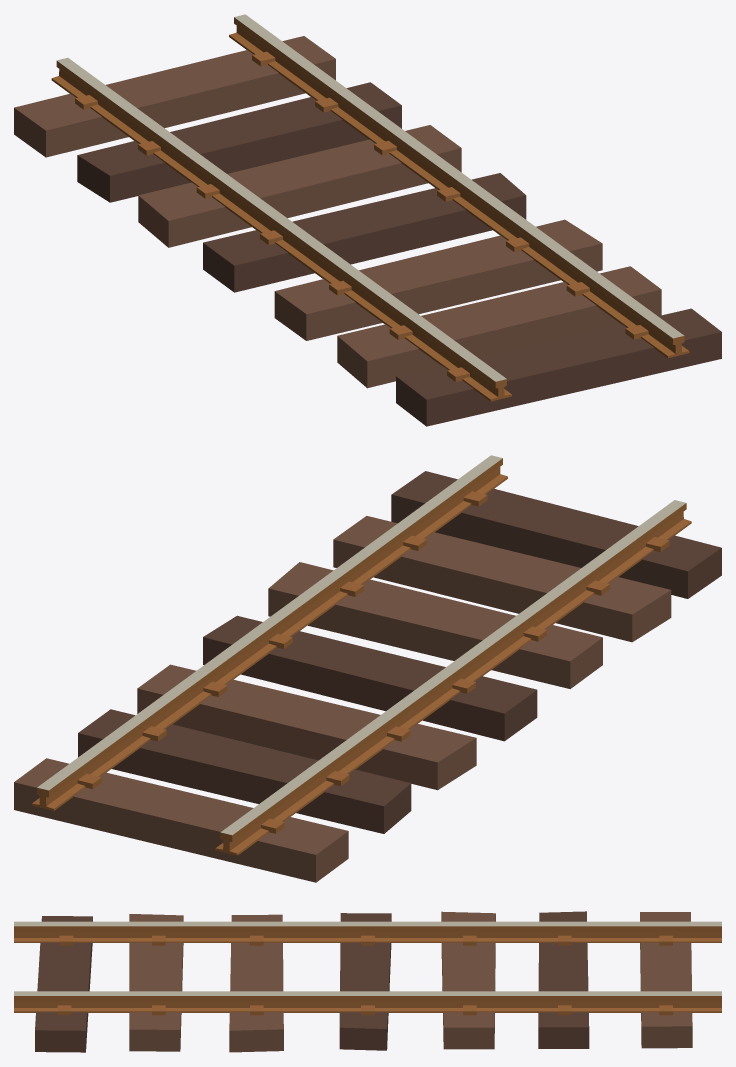
Rendered from Train Track 6 M V03.glb.
3 renders of one model, top to bottom at view 1: azimuth 30°, elevation 25°; view 2: azimuth 150°, elevation 25°; view 3: azimuth 270°, elevation 25°, orthographic. The views are drawn at different scales.
Visible parts, largest first — view 1: Train Track 6 M v03; view 2: Train Track 6 M v03; view 3: Train Track 6 M v03.
Part boxes in pixels (x1,y1,x2,y2): Train Track 6 M v03: [14, 14, 721, 426]; Train Track 6 M v03: [14, 455, 721, 882]; Train Track 6 M v03: [14, 911, 721, 1052].
Size of what is drawn, in the model's own units: 2.39 by 0.3385 by 6.
Materials: 1 (1 with a texture image).
